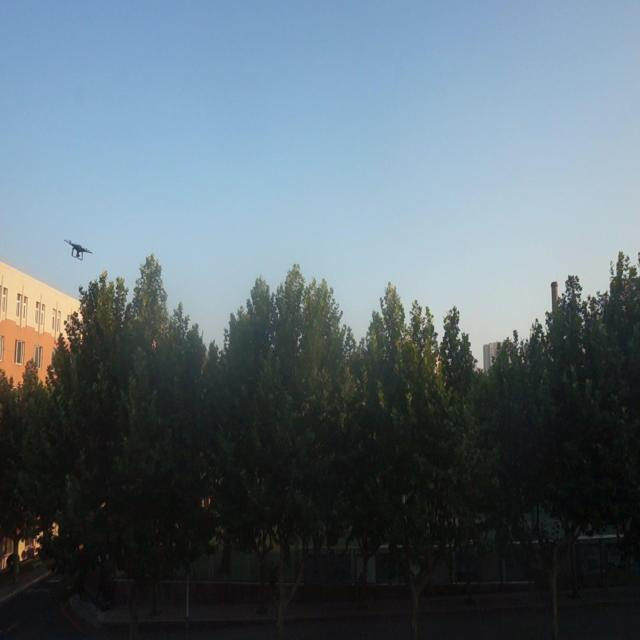UAV: (64, 238, 93, 260)
